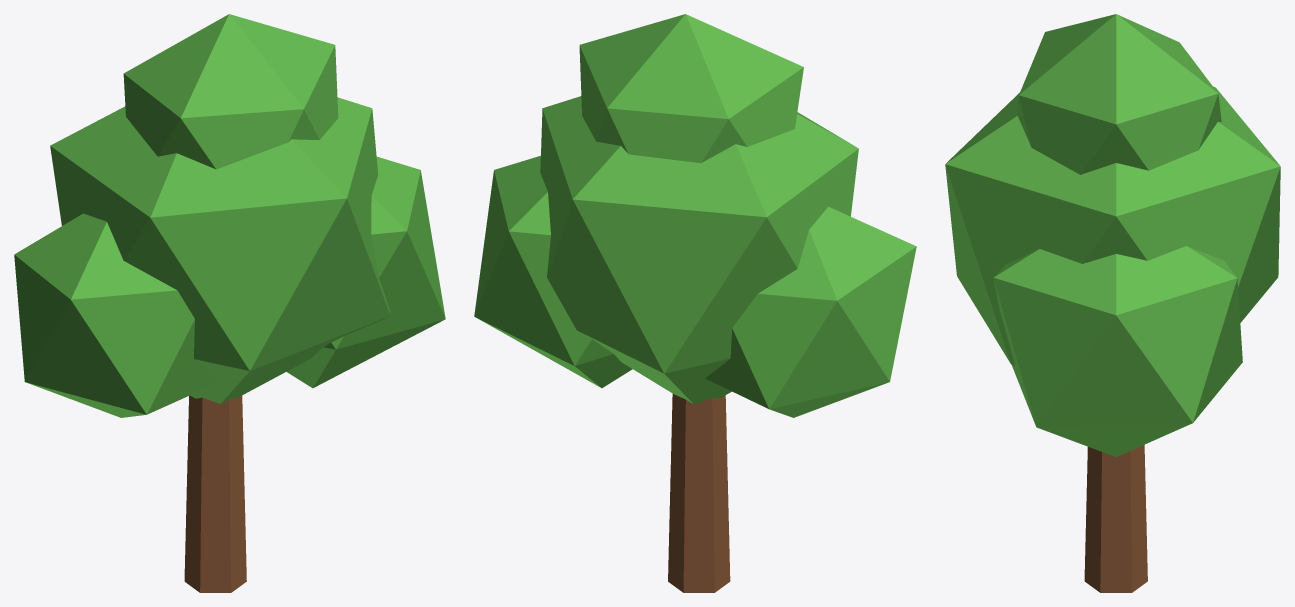
The model's file is tree_round.glb.
The picture shows the model from 3 angles, left to right: view 1: azimuth 30°, elevation 25°; view 2: azimuth 150°, elevation 25°; view 3: azimuth 270°, elevation 25°; orthographic projection.
Visible parts, largest first — view 1: Trunk; view 2: Trunk; view 3: Trunk.
Part boxes in pixels (x1=…): Trunk: x1=14, y1=14, x2=445, y2=592; Trunk: x1=474, y1=14, x2=916, y2=592; Trunk: x1=945, y1=14, x2=1280, y2=592.
Bounding box in the file's own units: 1.47 × 2 × 1.06.
